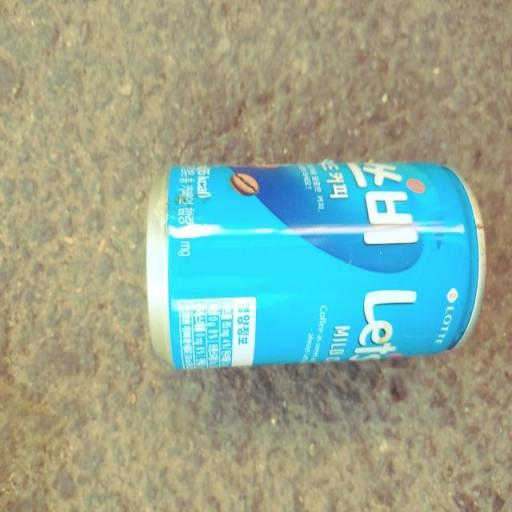metal: (114, 147, 504, 393)
